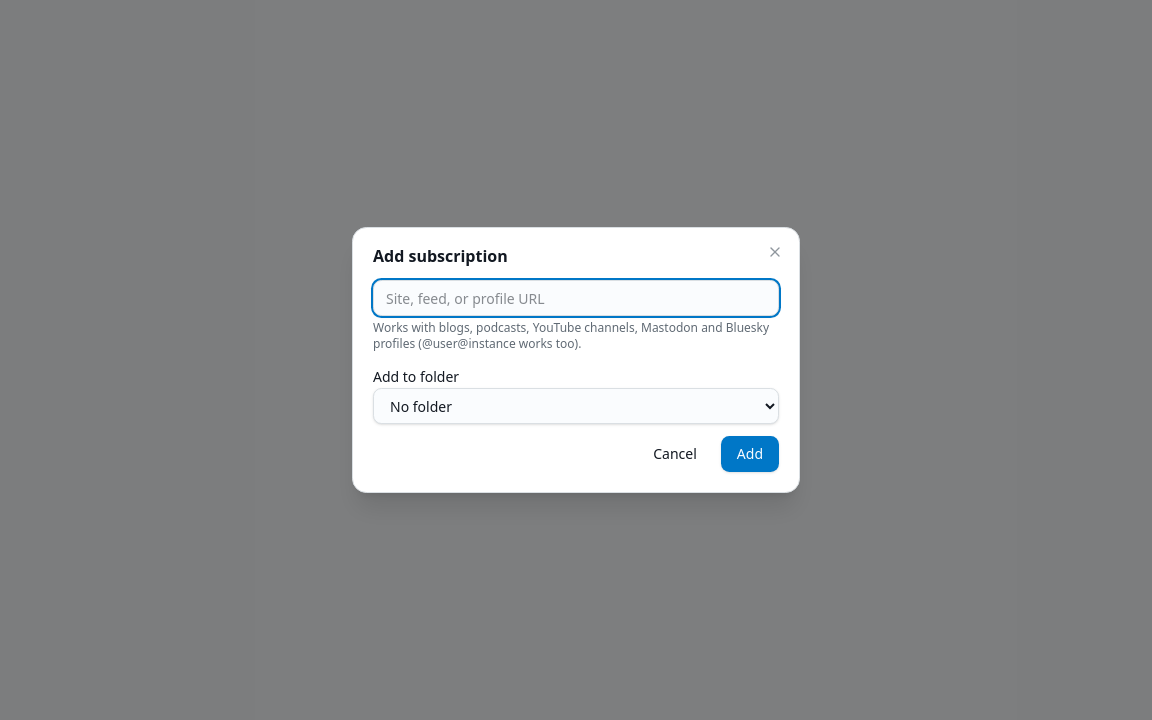
Test: text that is no address says so, and sends nothing
The width and height of the screenshot is (1152, 720).
Type "not an address" into the field labelled "Site, feed, or profile URL" at coordinates (576, 298), box [373,280,779,316]
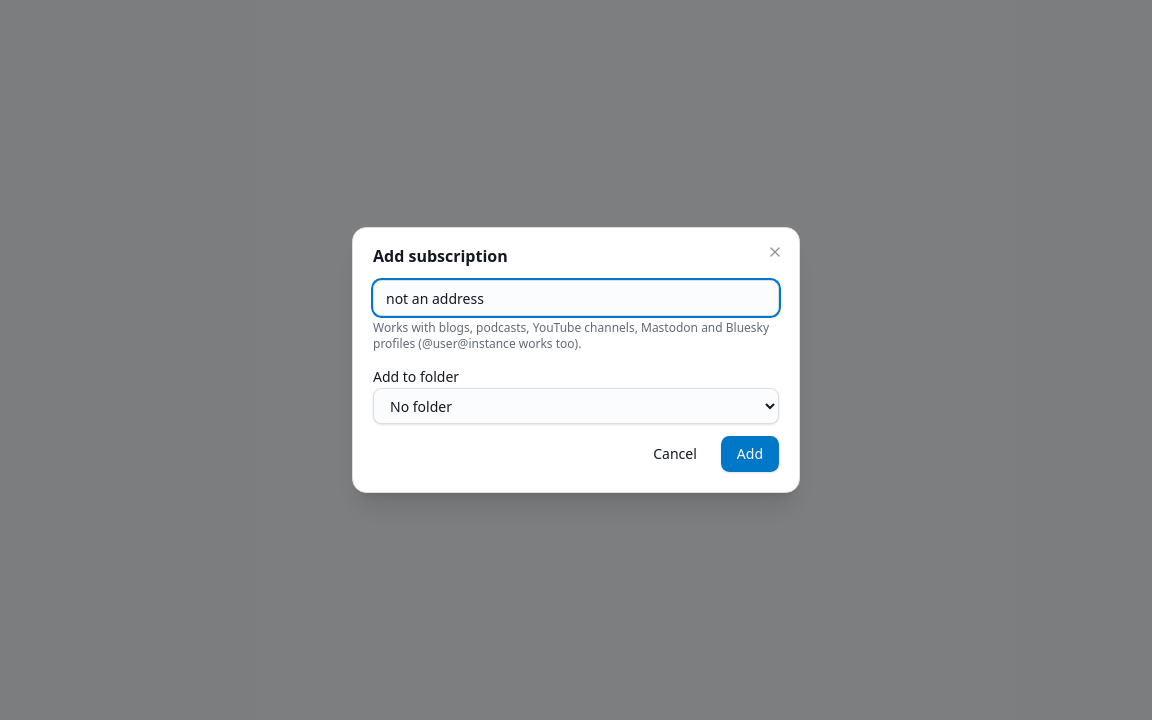
Click the button "Add" at coordinates (750, 454), box [721,436,779,472]
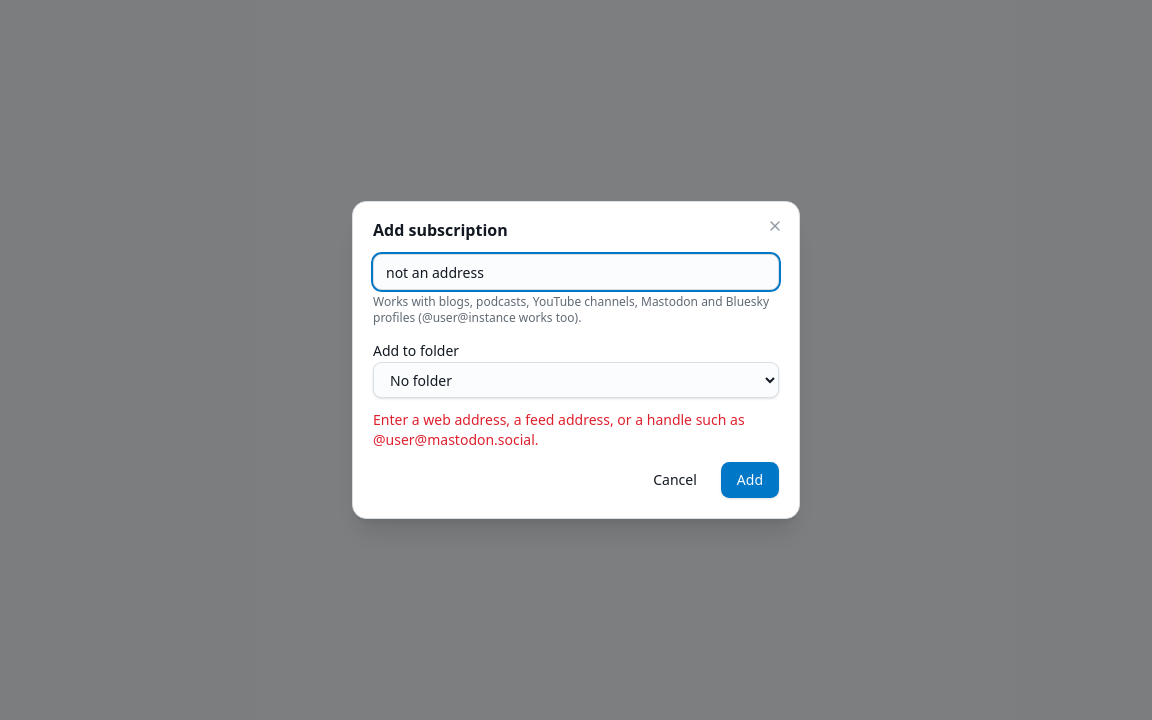
Check: the text "Enter a web address, a feed address, or a handle" is shown, box [373,410,745,449]
